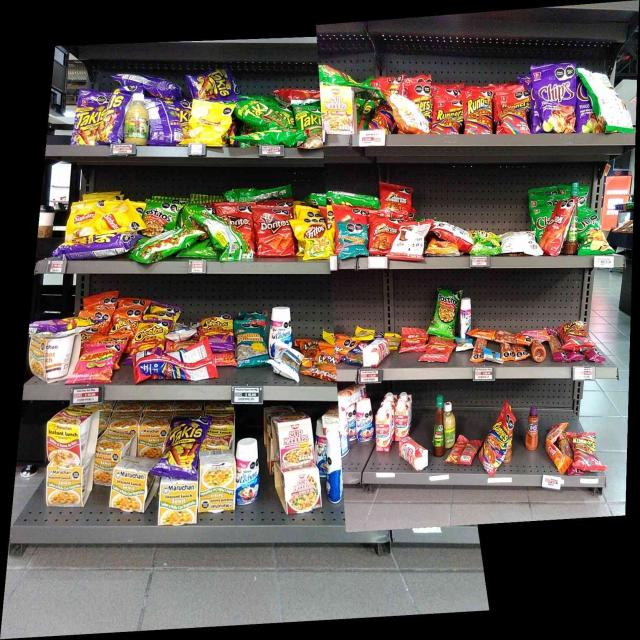bitzEnchilado90: (400, 327, 426, 351)
bitzEnchilado95: (474, 328, 534, 347), (547, 443, 571, 475)
cheetosFlaminHot: (202, 318, 234, 349), (138, 318, 165, 353), (38, 318, 86, 335)
cheetosOriginal: (112, 310, 136, 332)
chipsFuego: (532, 68, 576, 134), (578, 83, 592, 133)
chipsJalapeno: (580, 206, 603, 254)
chipsPapatinas: (469, 230, 498, 255)
churrumais: (79, 344, 114, 382)
delPrimoSalsa: (126, 91, 146, 142), (445, 402, 454, 447)
doritosNacho: (257, 207, 289, 256), (547, 202, 566, 255), (232, 204, 254, 244)
fritosLimon: (291, 218, 329, 260)
hotNutsOriginal: (426, 239, 460, 258)
leoCacahuates: (271, 346, 299, 380)
leoMix: (302, 342, 336, 380)
maruchanPollo: (29, 338, 76, 381), (158, 481, 196, 527), (201, 464, 235, 512), (111, 466, 144, 512), (48, 466, 83, 506)
maruchanRes: (46, 409, 94, 463)
nestleCarnation: (401, 441, 428, 471), (362, 340, 389, 364), (376, 410, 390, 452), (395, 403, 408, 436)
nestleLechera: (327, 424, 343, 502), (237, 441, 257, 503), (271, 308, 291, 342), (356, 399, 372, 440), (460, 298, 471, 336)
nissinCamaron: (322, 86, 356, 134)
nissinRes: (278, 418, 314, 468), (283, 472, 321, 513)
productoAtras: (134, 354, 214, 380), (594, 72, 624, 133), (150, 97, 182, 143), (206, 217, 230, 262), (397, 222, 425, 260), (138, 236, 179, 261), (500, 233, 536, 255), (394, 96, 413, 132), (457, 434, 478, 464), (430, 220, 466, 236)
rancheritos: (369, 216, 395, 255), (380, 182, 411, 214)
runners: (496, 93, 528, 135), (480, 424, 508, 471), (464, 90, 491, 134), (434, 94, 462, 136), (565, 320, 595, 350), (574, 433, 596, 472), (369, 106, 392, 132), (415, 84, 433, 115)
sabritasOriginal: (184, 100, 228, 146), (97, 208, 137, 230), (70, 204, 95, 223)
salsaBufalo: (434, 394, 444, 454), (568, 207, 578, 255)
semillasGirasol: (236, 321, 267, 363), (338, 223, 366, 257)
tajinDulce: (526, 404, 539, 450)
takisFuego: (165, 418, 198, 478), (60, 232, 135, 255), (99, 90, 123, 143), (76, 90, 97, 144), (190, 70, 233, 96)
takisOriginal: (233, 100, 281, 129), (294, 109, 320, 133)
tostitos: (436, 289, 458, 338), (143, 202, 172, 233)
